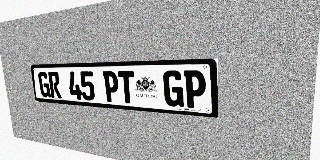4: (67, 71, 82, 100)
5: (80, 71, 95, 101)
G: (163, 70, 184, 107), (38, 72, 51, 98)
P: (184, 70, 206, 109), (103, 71, 120, 103)
R: (48, 72, 62, 98)
T: (118, 71, 136, 104)
